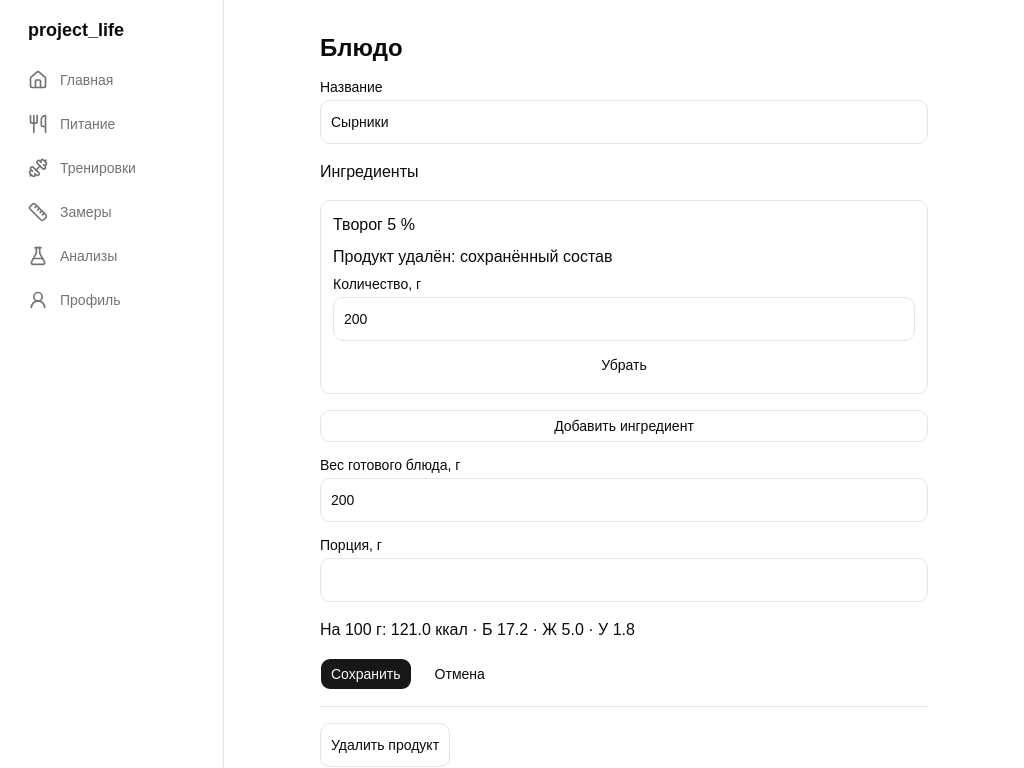
Scenario: сохраняет удалённый ингредиент и разрешает убрать его из рецепта
Check: the text "Продукт удалён: сохранённый состав" is shown, box [333, 248, 612, 265]
Check: the field labelled "Количество, г" holds "200", box [333, 297, 915, 341]
Click the button "Убрать".
click(624, 365)  # box [333, 349, 915, 381]
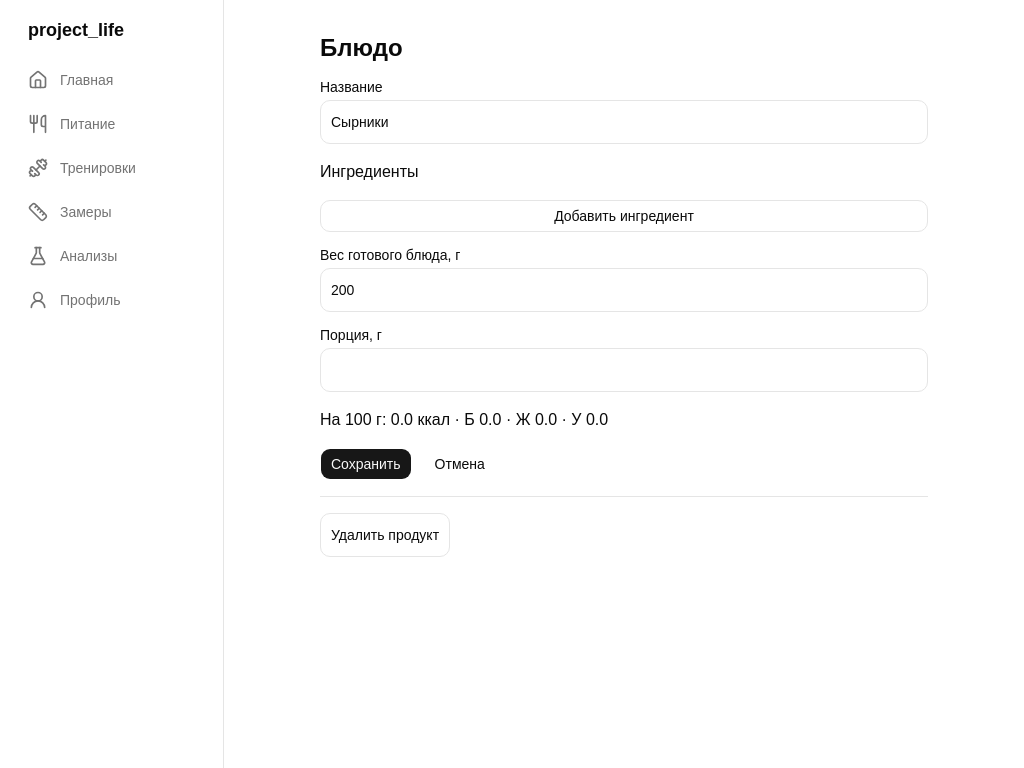
Check: the label labelled "Количество, г" is gone
